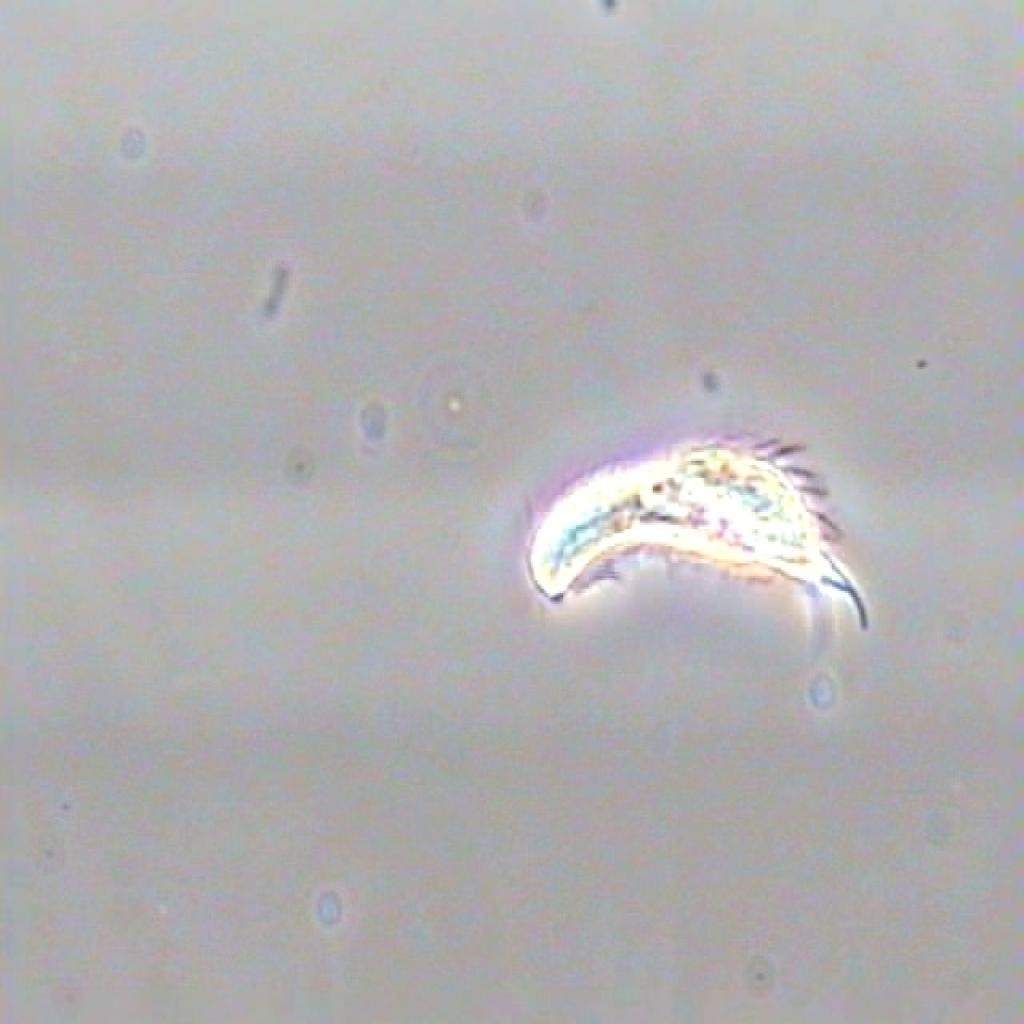Chaetonotus: (491, 384, 875, 666)
